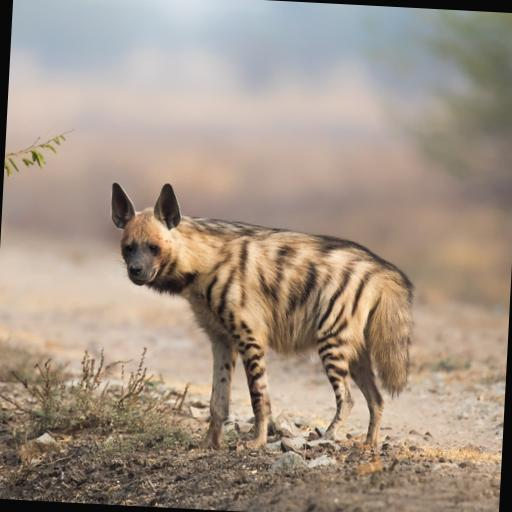hyenas: (61, 144, 436, 450)
